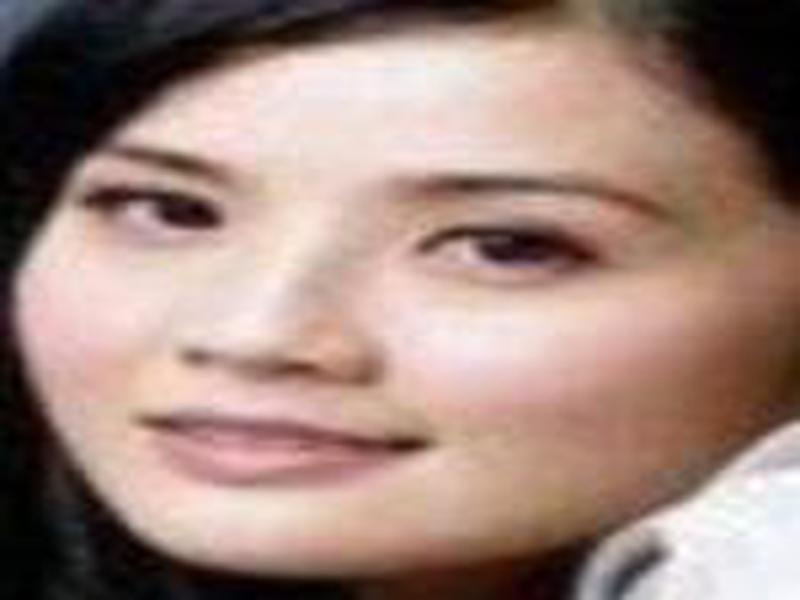without_mask: (17, 80, 734, 570)
